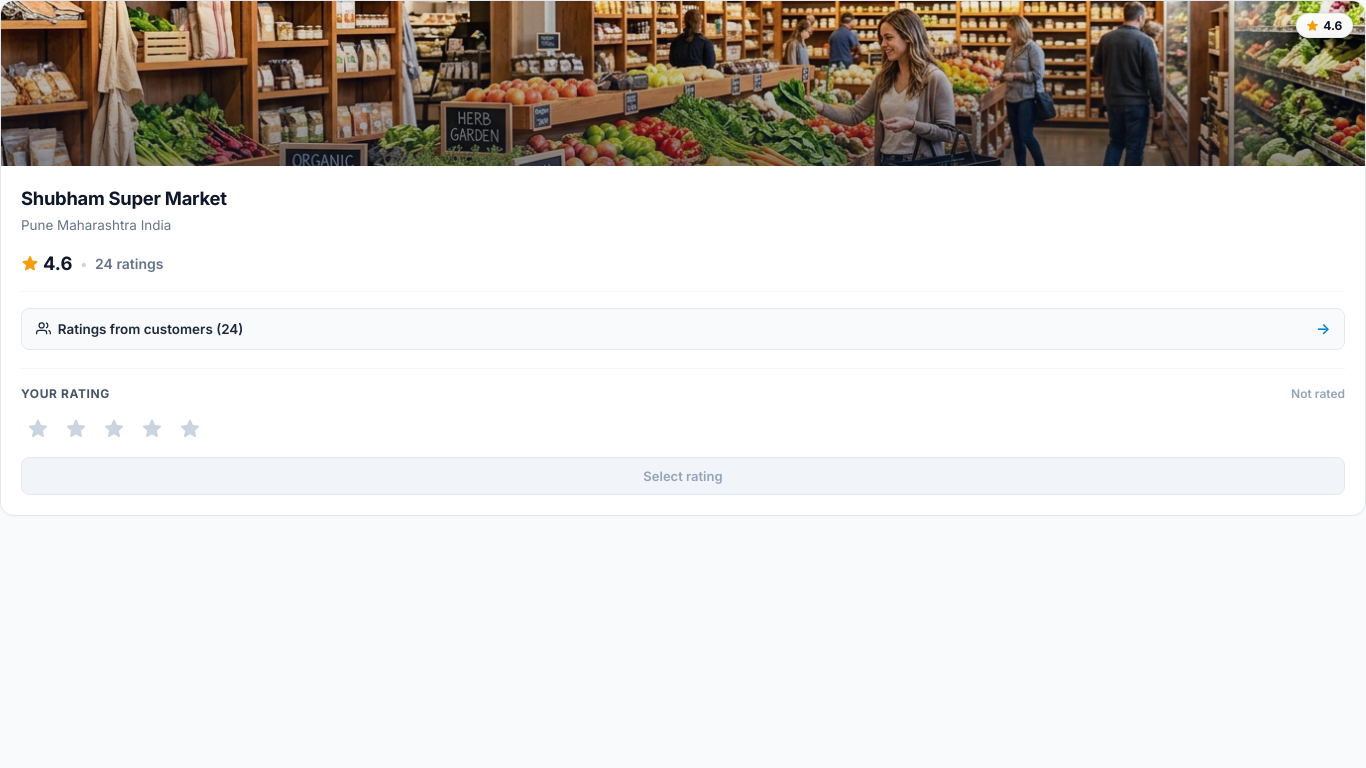
StoreCard › shows other people ratings after clicking the ratings button
The width and height of the screenshot is (1366, 768).
Expected: the text "Ananya Sharma" is not shown
Click the button with aria-label "view 24 customer ratings for shubham super market": (151, 329) [21,308,1345,350]
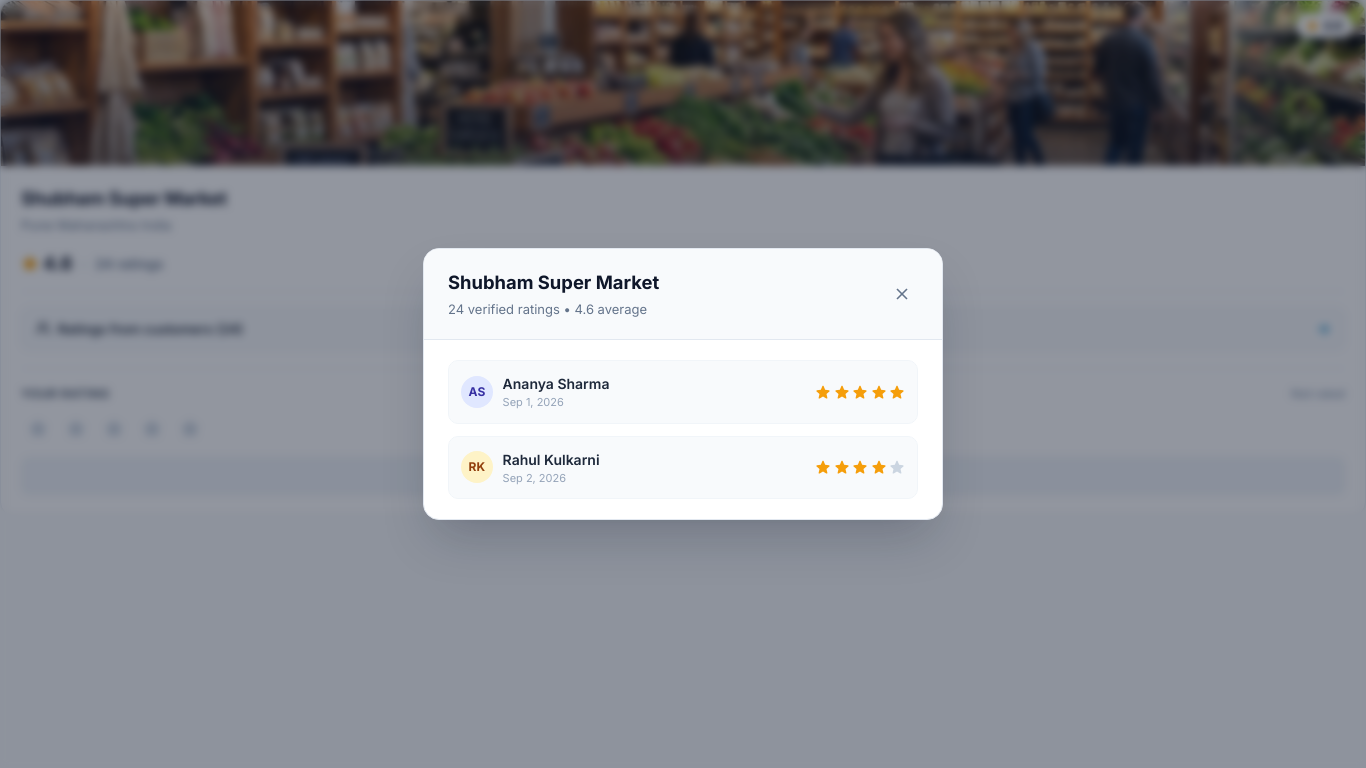
Result: the dialog named "ratings for shubham super market" is shown
Result: the text "Ananya Sharma" is shown at [503,373,610,394]
Result: the text "Rahul Kulkarni" is shown at [503,449,600,470]
